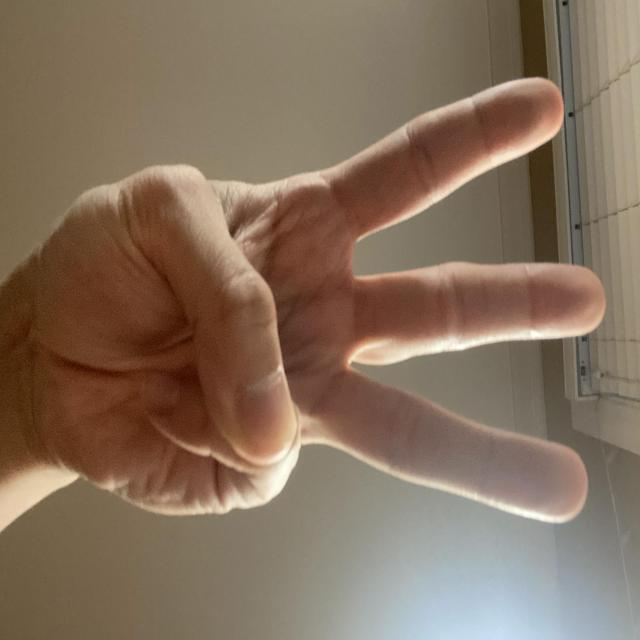W: (209, 38, 573, 640)
